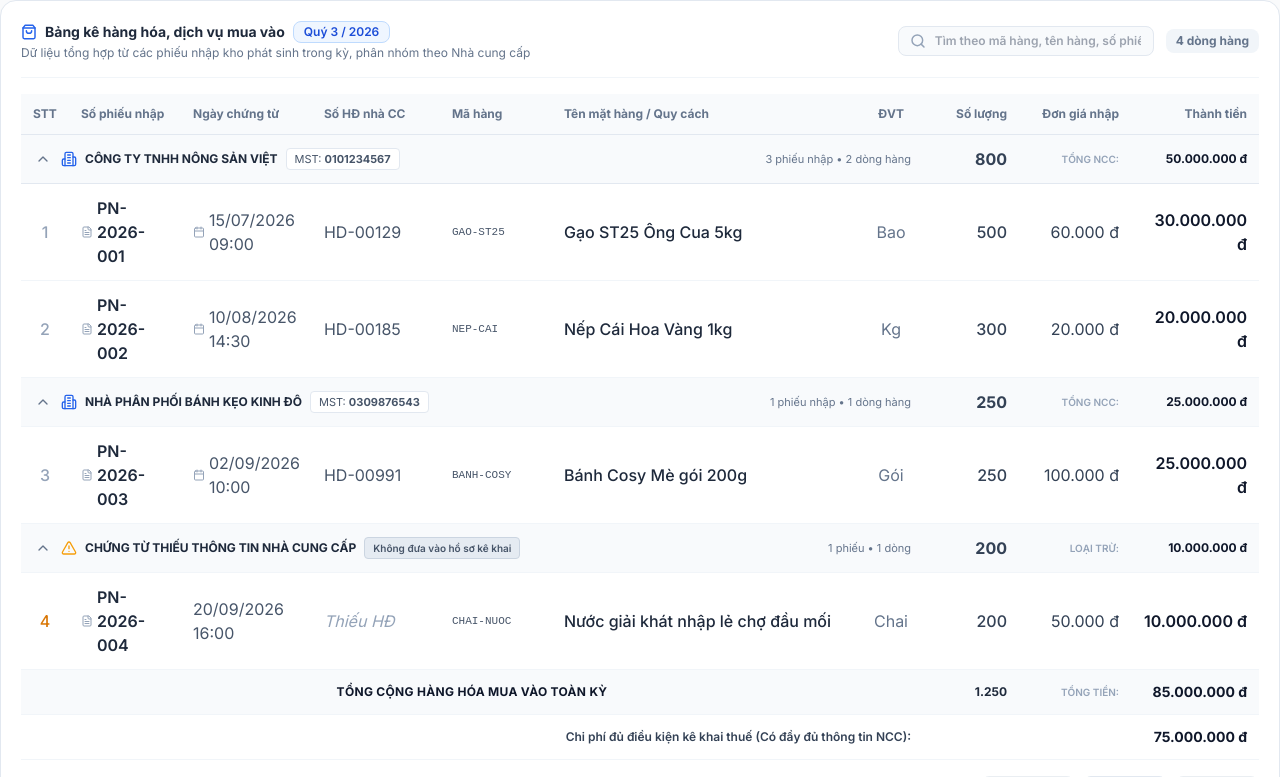
Scenario: NCL-12-CN-006: Bảng kê hàng hóa mua vào theo kỳ › NCL-12-CN-006-SEARCH: Lọc danh sách mặt hàng mua vào theo từ khóa tìm kiếm
This screenshot has width=1280, height=777.
Type "ST25" into the field with placeholder "Tìm theo mã hàng, tên hàng, số phiếu..." at (1026, 41), box left=898, top=26, right=1154, bottom=56
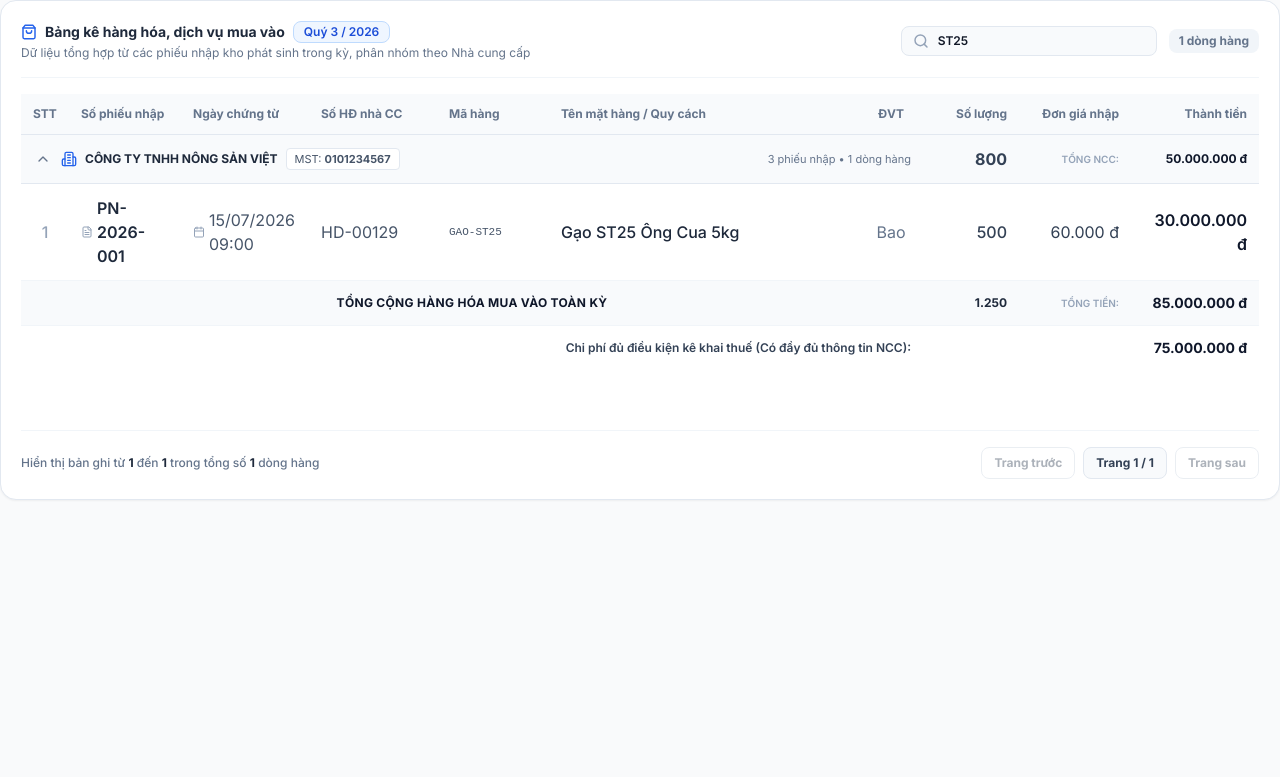
Expected: the text "Gạo ST25 Ông Cua 5kg" is shown, left=549, top=184, right=859, bottom=280
Expected: the text "Bánh Cosy Mè gói 200g" is gone
